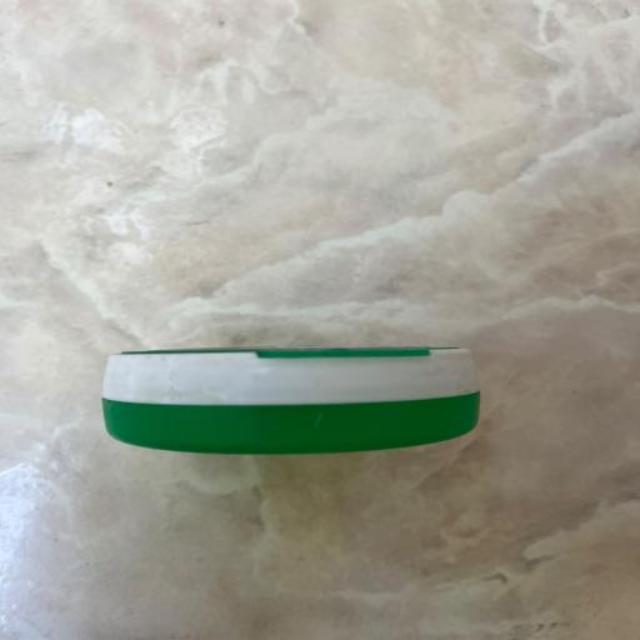HDPE: (81, 314, 555, 510)
